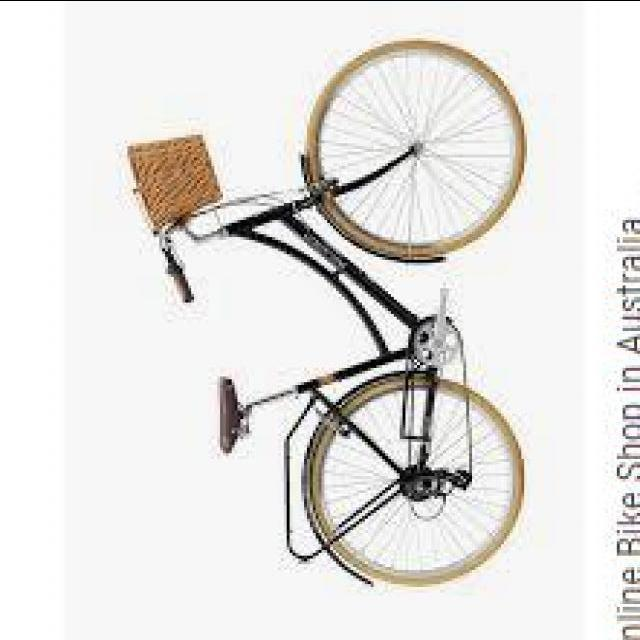bicycle: (126, 38, 537, 584)
